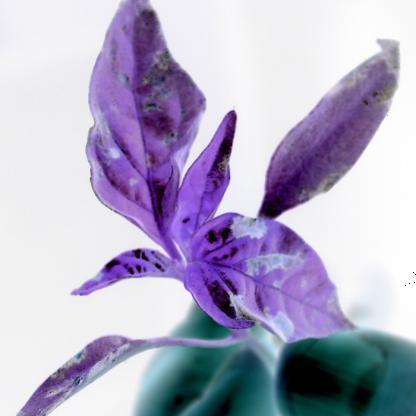Bell_pepper leaf: (70, 4, 212, 242), (176, 214, 368, 356), (16, 324, 158, 416)
